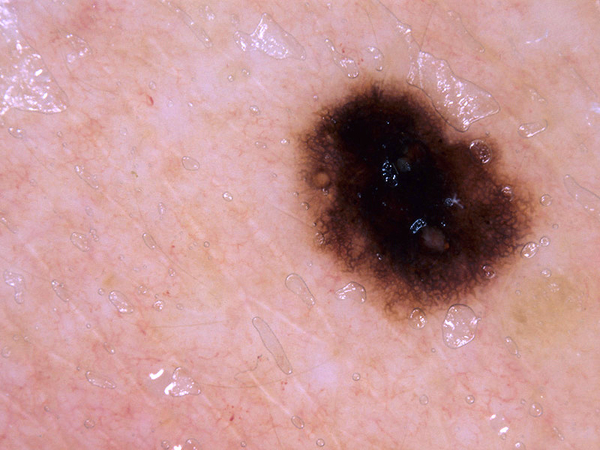Detected Lesion: (289, 75, 537, 322)
